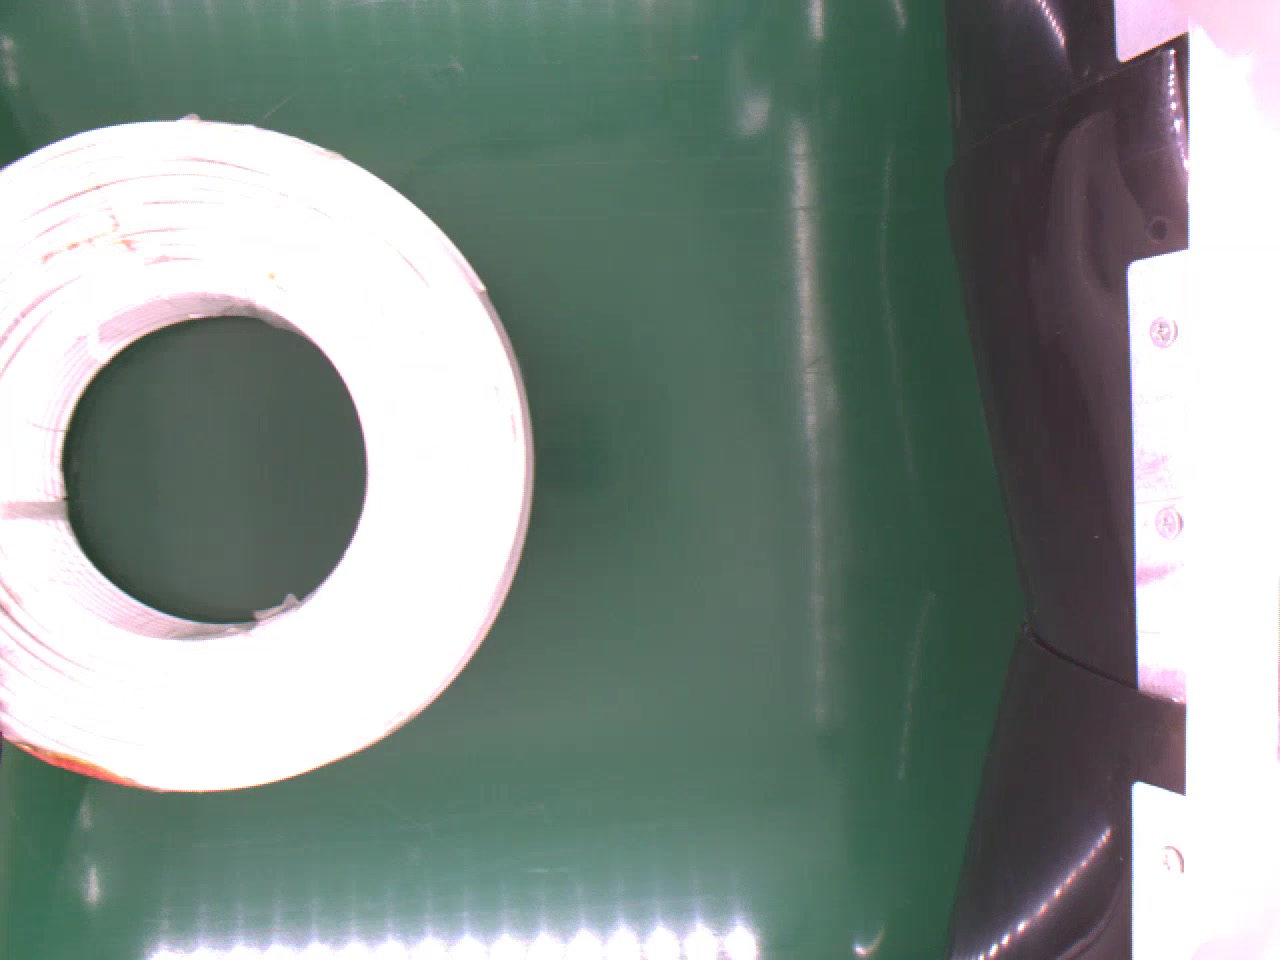white: (0, 116, 533, 795)
